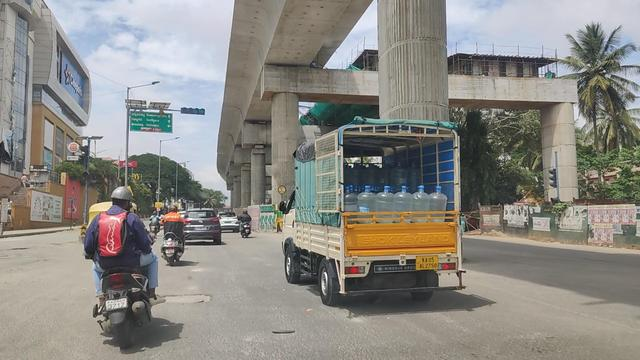HMV: (287, 110, 467, 315)
LMV: (89, 181, 148, 353), (160, 203, 187, 271)
RoadDamages: (159, 288, 216, 305)
